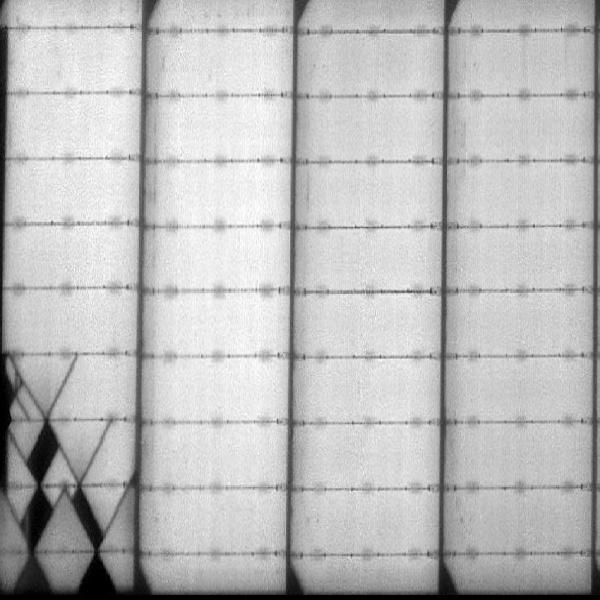broken: (1, 351, 140, 600)
